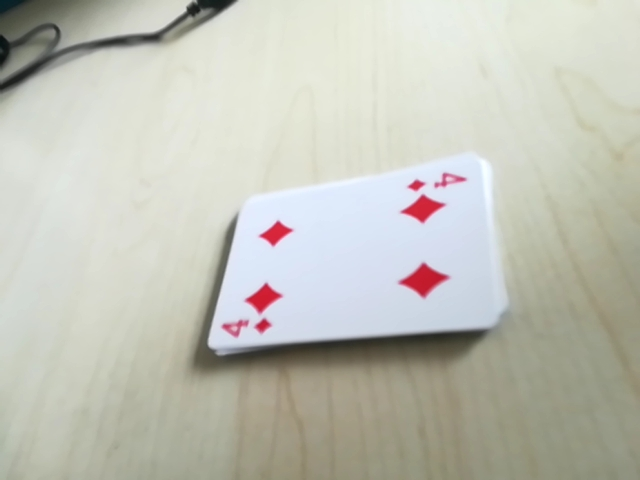fk 4: (215, 313, 281, 349), (405, 162, 476, 195)
